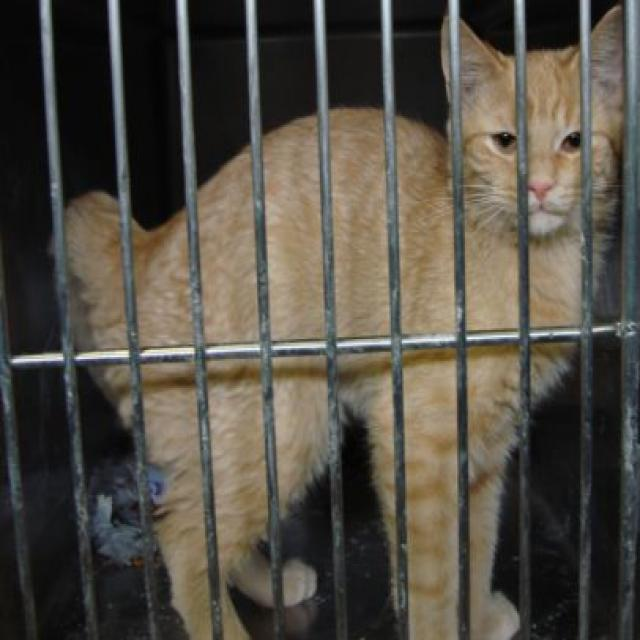cats: (49, 8, 620, 640)
